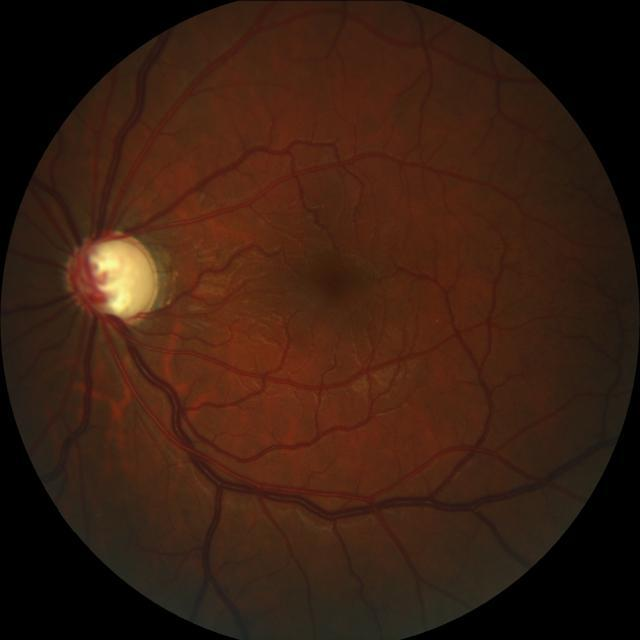OC: (84, 236, 154, 316)
OD: (70, 230, 161, 323)
